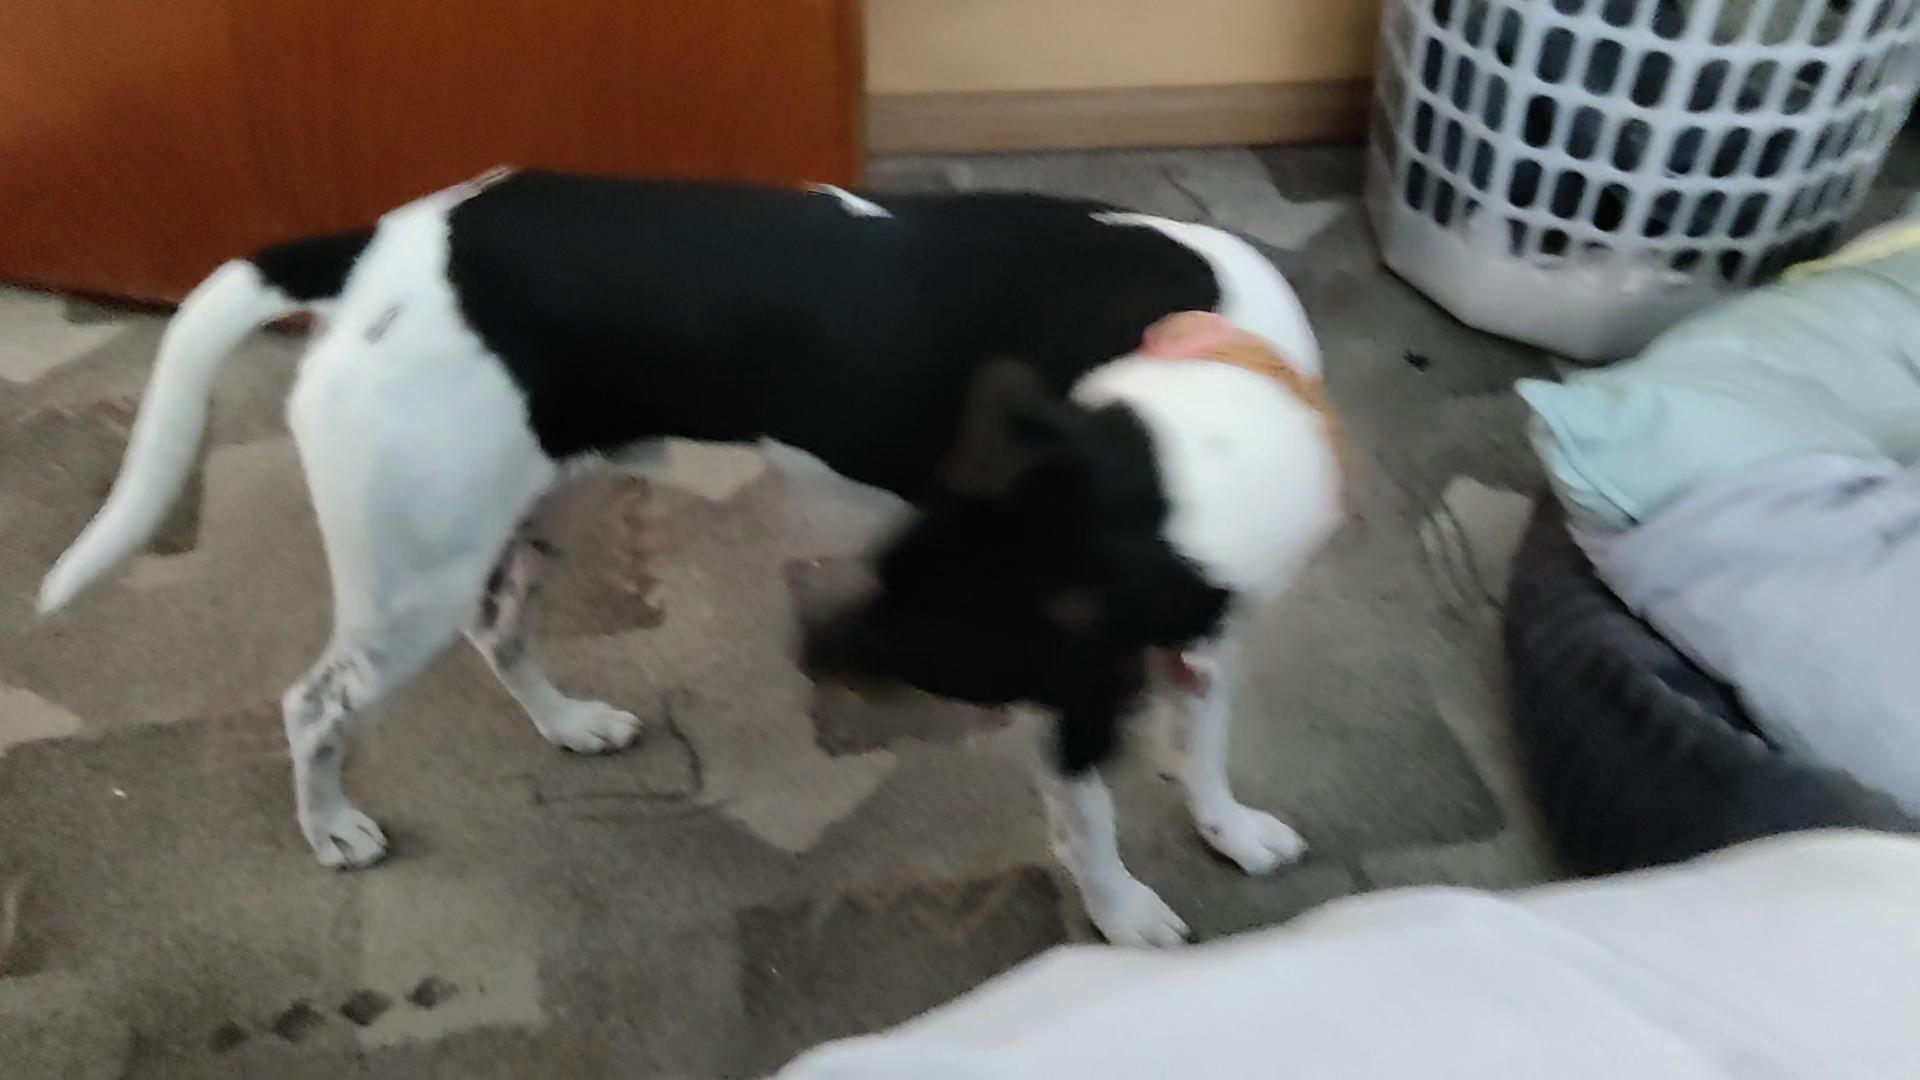Dog: (26, 160, 1364, 948)
